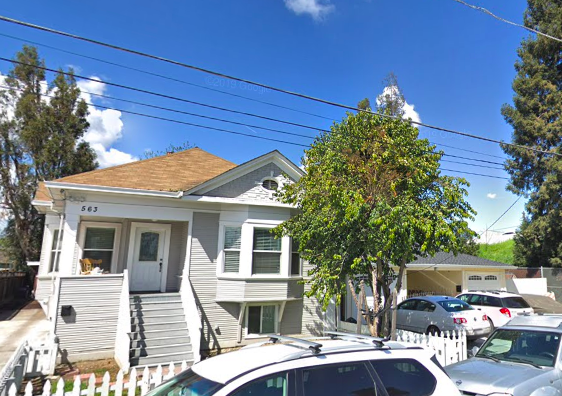tree: (268, 107, 481, 338)
